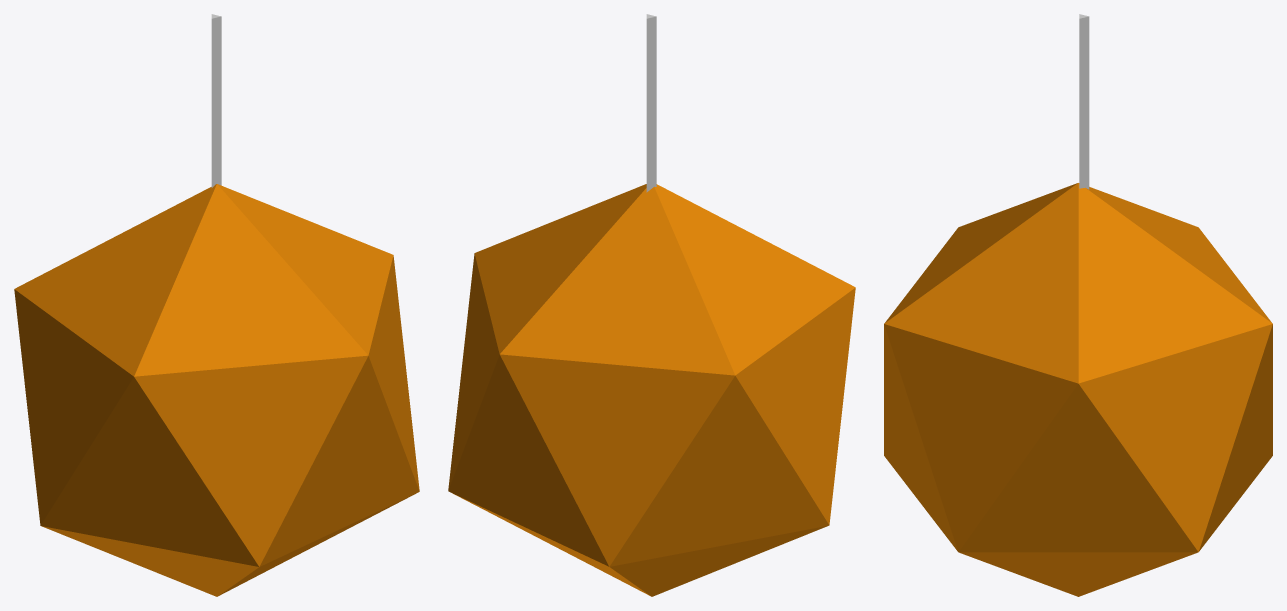
The model's file is Baulble_1.fbx.
3 renders of one model, left to right at view 1: azimuth 30°, elevation 25°; view 2: azimuth 150°, elevation 25°; view 3: azimuth 270°, elevation 25°, orthographic.
Visible parts, largest first — view 1: Icosphere.003; view 2: Icosphere.003; view 3: Icosphere.003.
Part boxes in pixels (box(x1,y1,x2,y2)): Icosphere.003: box(14, 14, 419, 596); Icosphere.003: box(448, 14, 855, 596); Icosphere.003: box(884, 14, 1272, 596).
Size of the model in its own units: 11.54 by 18.08 by 10.97.
